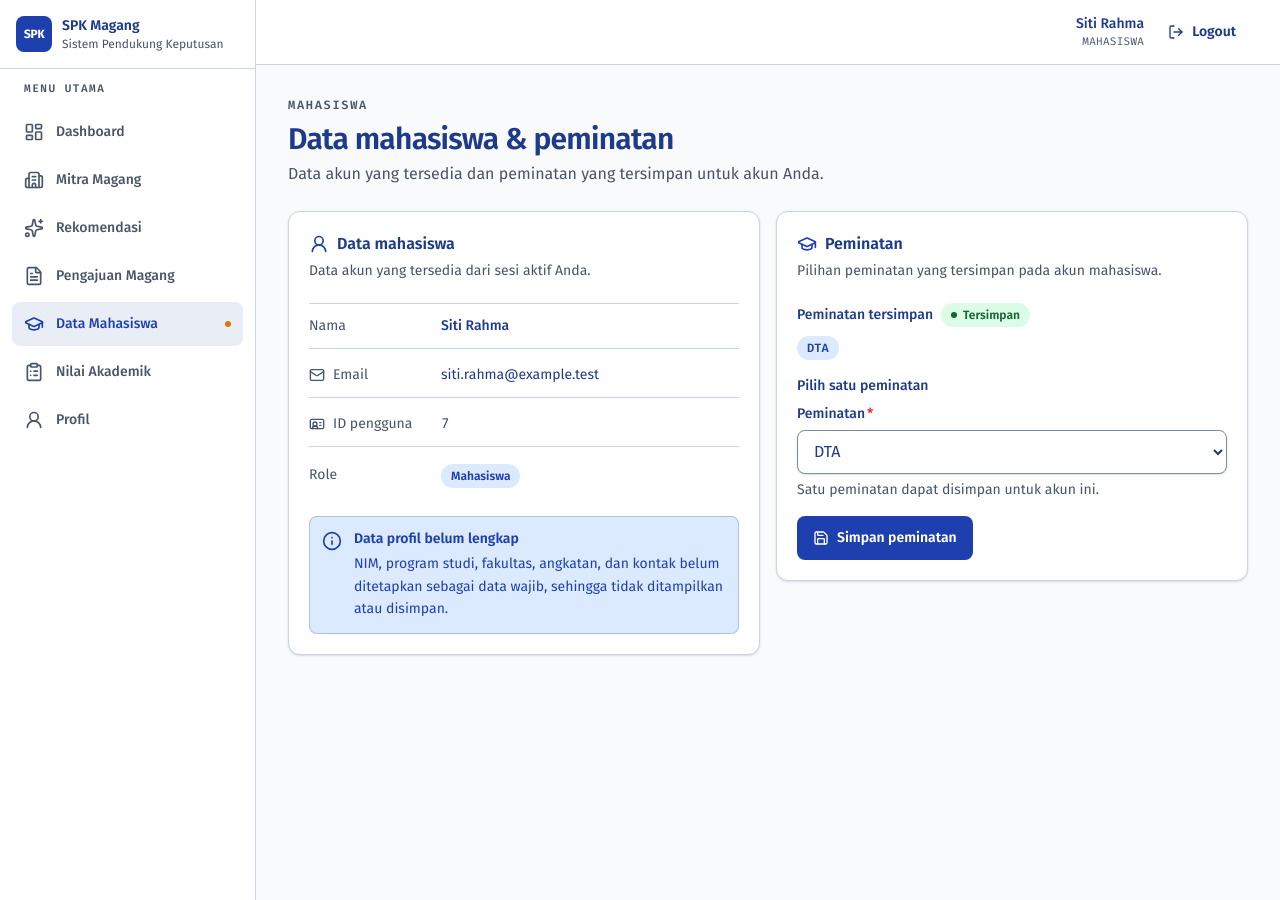
Test: StudentDataPage › menyimpan pilihan tunggal dari form
The width and height of the screenshot is (1280, 900).
Select "PSI" in the dropdown labelled "Peminatan*" at (1012, 452), box x1=797 y1=430 x2=1227 y2=474
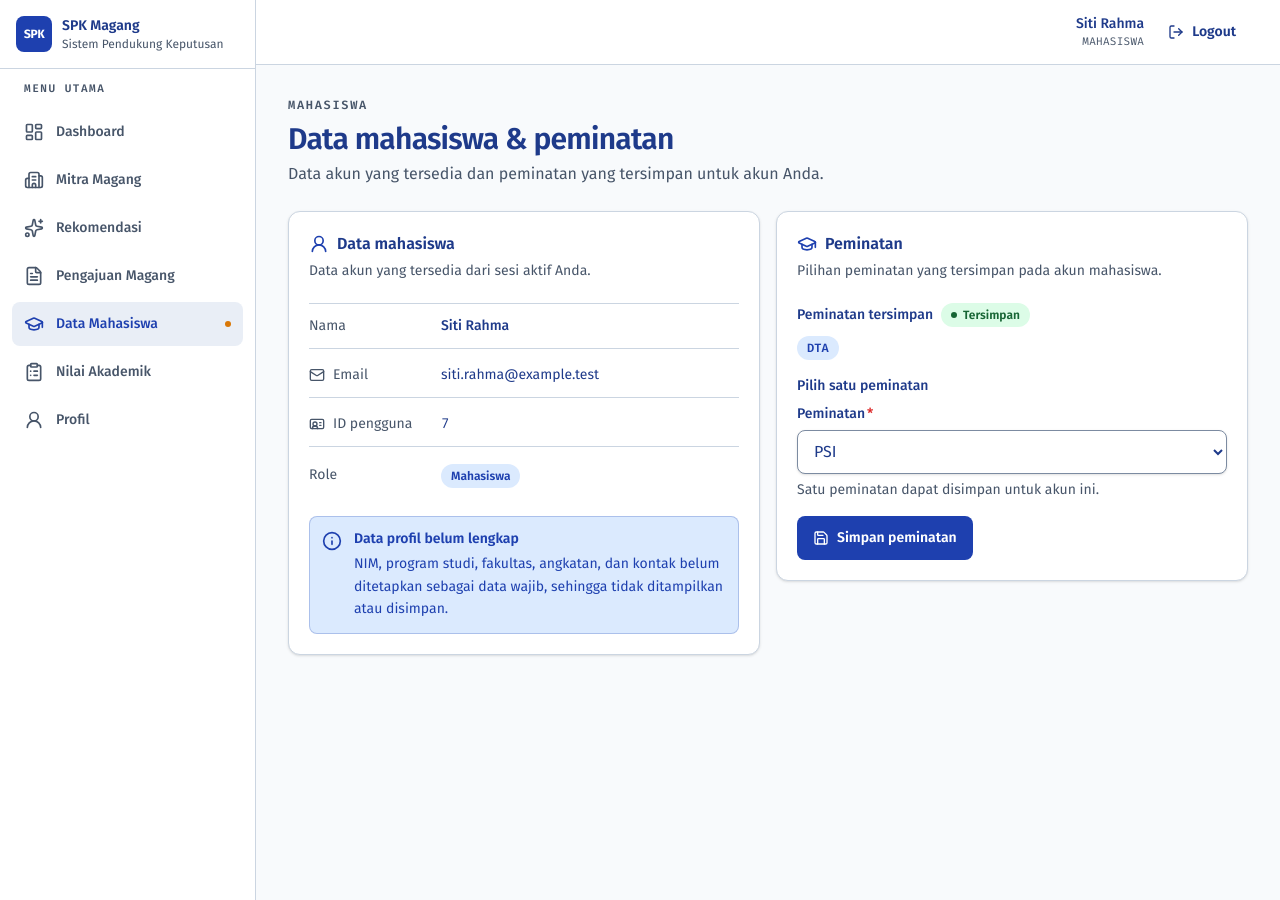
Click the button "Simpan peminatan".
click(885, 538)  # box x1=797 y1=516 x2=973 y2=560
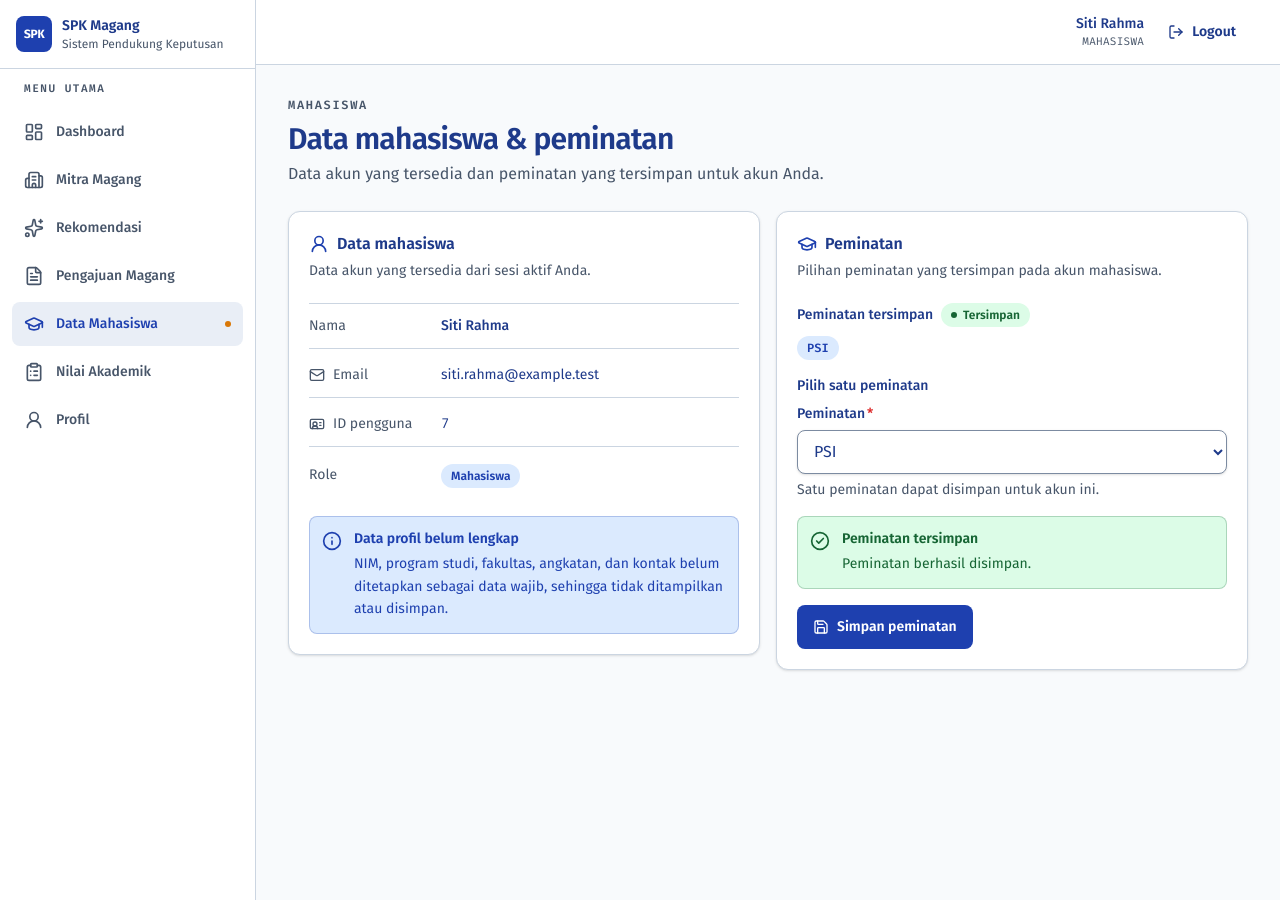
Result: the text "Peminatan berhasil disimpan." is shown at x1=842 y1=553 x2=1031 y2=576
